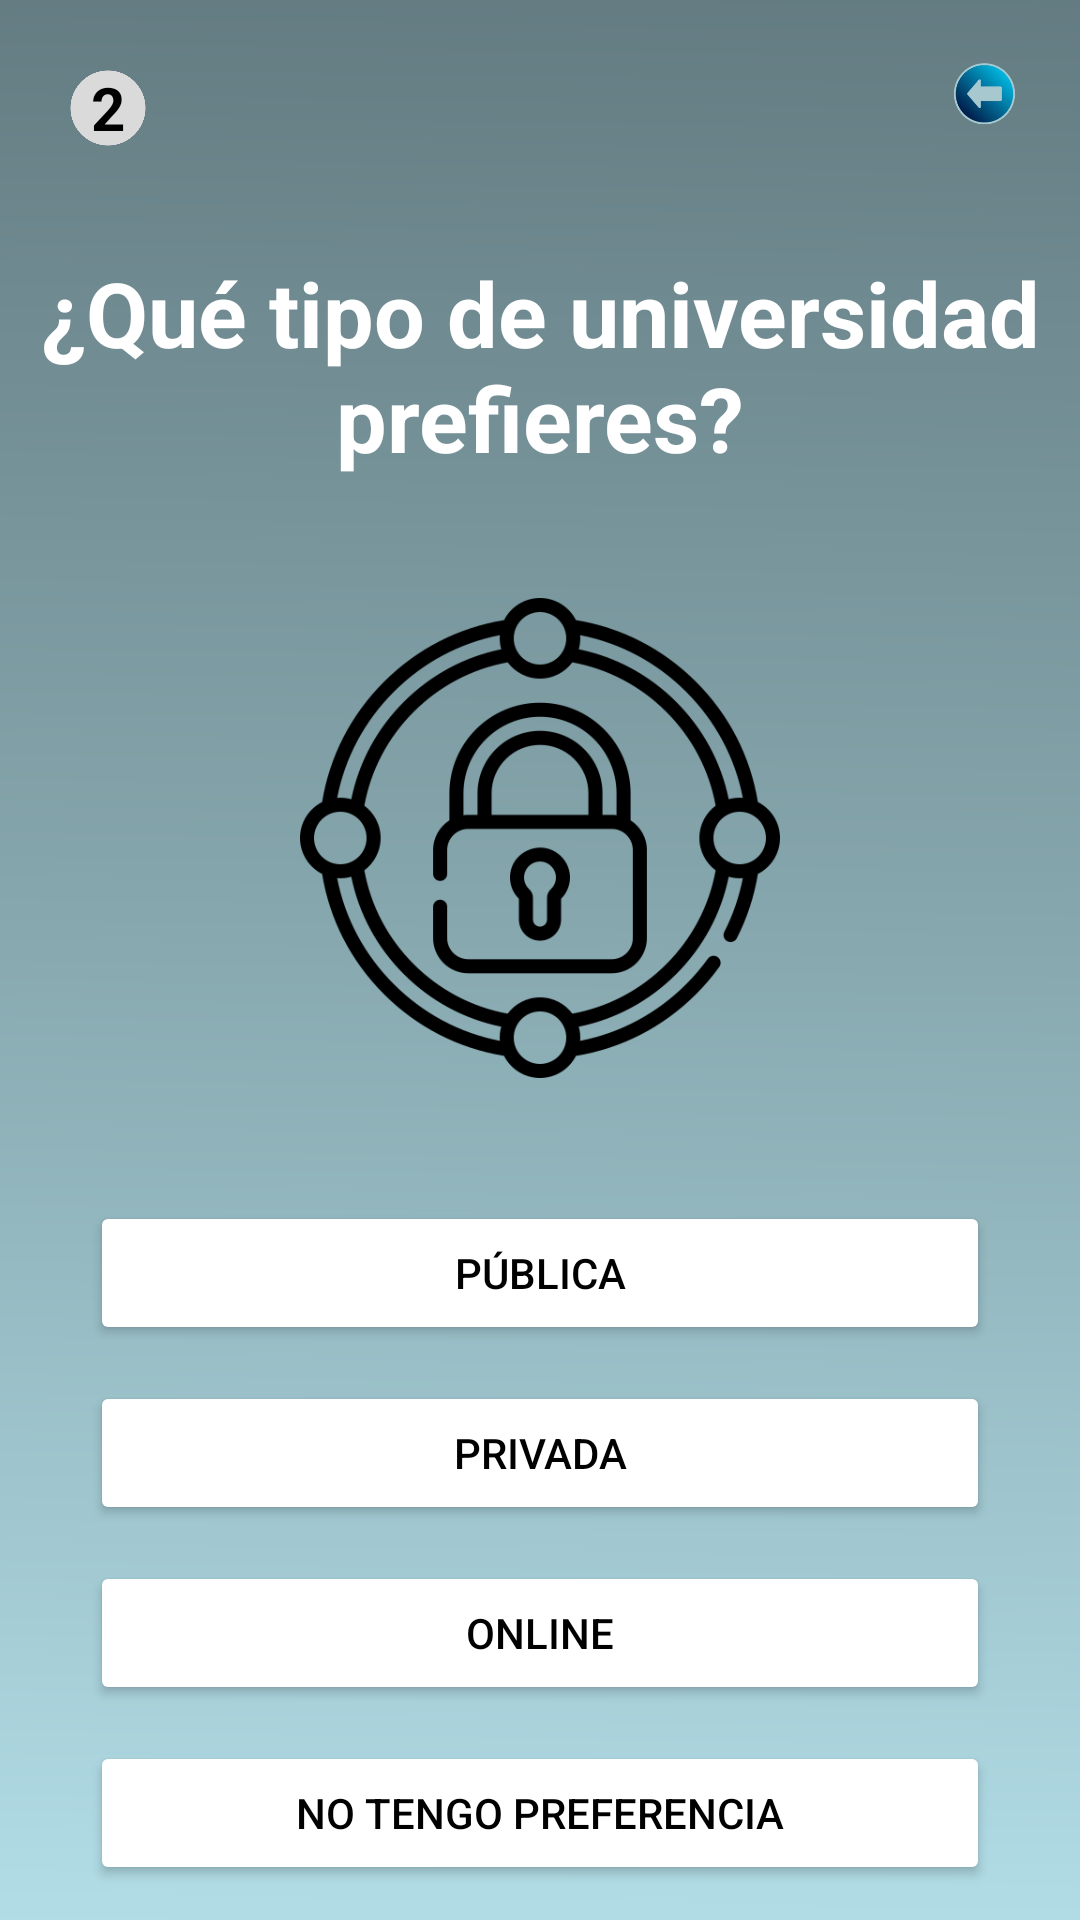

Screen size 1080*1920. Icon name, then its center in pixels as (x,y):
retroceso: (984,93)
